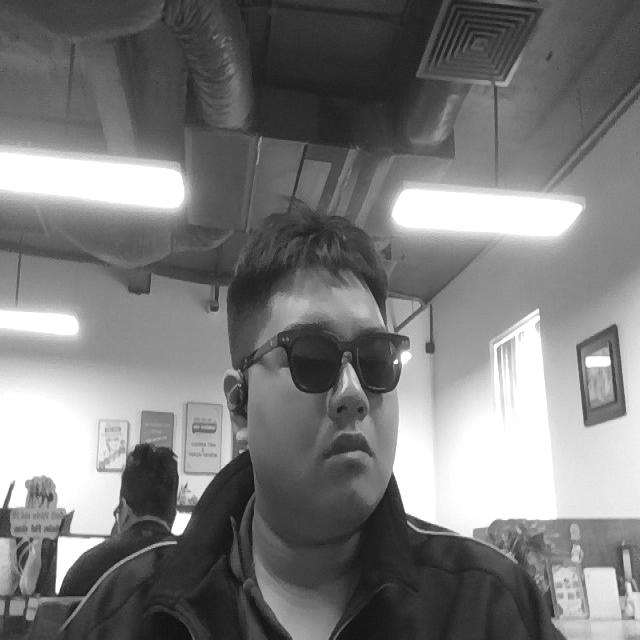fake: (236, 324, 407, 396)
real: (215, 217, 411, 534)
